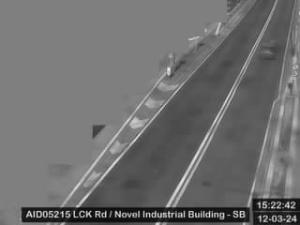vehicle: (258, 40, 280, 56)
